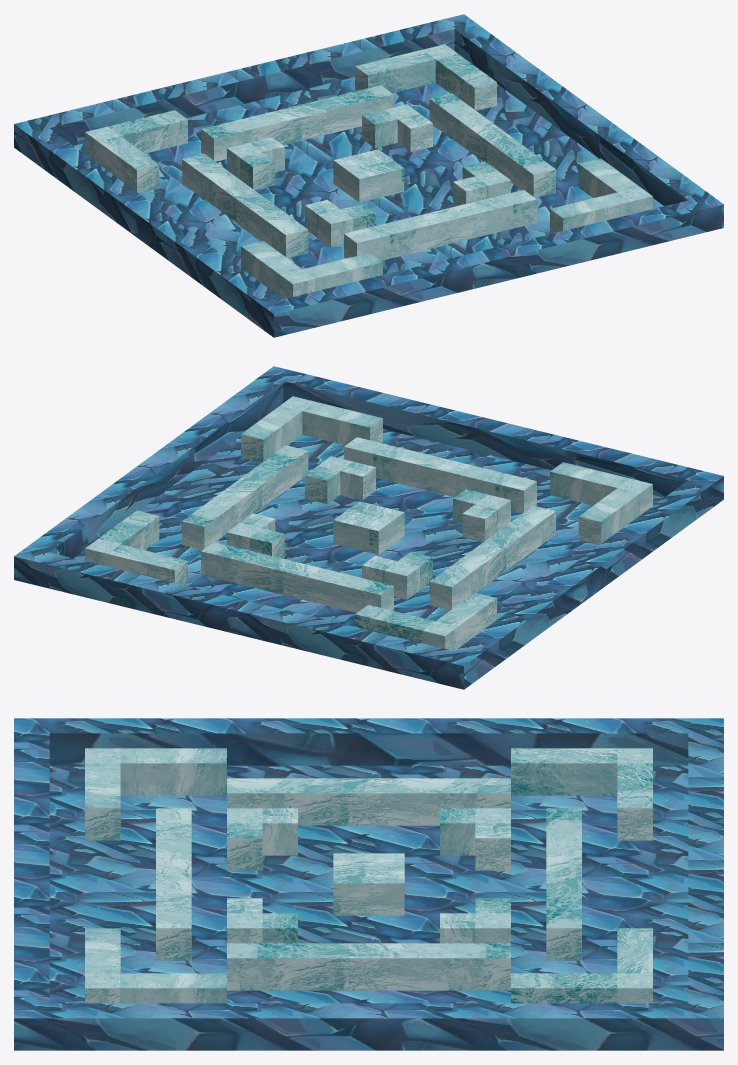
File: iceMap.fbx
The picture shows the model from 3 angles, top to bottom: view 1: azimuth 30°, elevation 25°; view 2: azimuth 150°, elevation 25°; view 3: azimuth 270°, elevation 25°; orthographic projection. The views are drawn at different scales.
Parts seen in each view (by area): view 1: Plane, Cube.005, Cube.004, Cube.006, Cube.007, Cube.002, Cube.003, Cube, Cube.001, Cube.012, Cube.010, Cube.009 (+2 smaller); view 2: Plane, Cube.004, Cube.005, Cube.006, Cube.007, Cube.001, Cube, Cube.003, Cube.002, Cube.012, Cube.011, Cube.008 (+2 smaller); view 3: Plane, Cube.007, Cube.006, Cube, Cube.003, Cube.001, Cube.002, Cube.004, Cube.005, Cube.012, Cube.008, Cube.009 (+2 smaller).
Boxes of the visible parts, box(x1,y1,x2,y2) form: Plane: box(14, 14, 723, 337); Cube.005: box(344, 190, 536, 260); Cube.004: box(201, 85, 393, 161); Cube.006: box(182, 153, 308, 258); Cube.007: box(429, 93, 555, 197); Cube.002: box(355, 44, 496, 110); Cube.003: box(85, 110, 187, 193); Cube: box(241, 240, 382, 298); Cube.001: box(550, 158, 652, 233); Cube.012: box(333, 149, 404, 202); Cube.010: box(362, 104, 432, 152); Cube.009: box(227, 137, 284, 190); Plane: box(14, 366, 723, 689); Cube.004: box(201, 542, 393, 612); Cube.005: box(344, 437, 536, 513); Cube.006: box(429, 505, 555, 610); Cube.007: box(182, 445, 308, 549); Cube.001: box(241, 396, 382, 462); Cube: box(550, 462, 652, 545); Cube.003: box(355, 592, 496, 650); Cube.002: box(85, 510, 187, 585); Cube.012: box(333, 501, 404, 554); Cube.011: box(305, 456, 375, 504); Cube.008: box(453, 489, 510, 542); Plane: box(14, 718, 723, 1050); Cube.007: box(227, 943, 510, 990); Cube.006: box(227, 778, 510, 825); Cube: box(85, 748, 226, 840); Cube.003: box(511, 748, 652, 840); Cube.001: box(85, 928, 226, 1003); Cube.002: box(511, 928, 652, 1003); Cube.004: box(546, 808, 581, 960); Cube.005: box(156, 808, 191, 960); Cube.012: box(333, 853, 404, 915); Cube.008: box(227, 808, 297, 870); Cube.009: box(440, 808, 510, 870).
Size of the model in its own units: 8000 by 400 by 8000.
